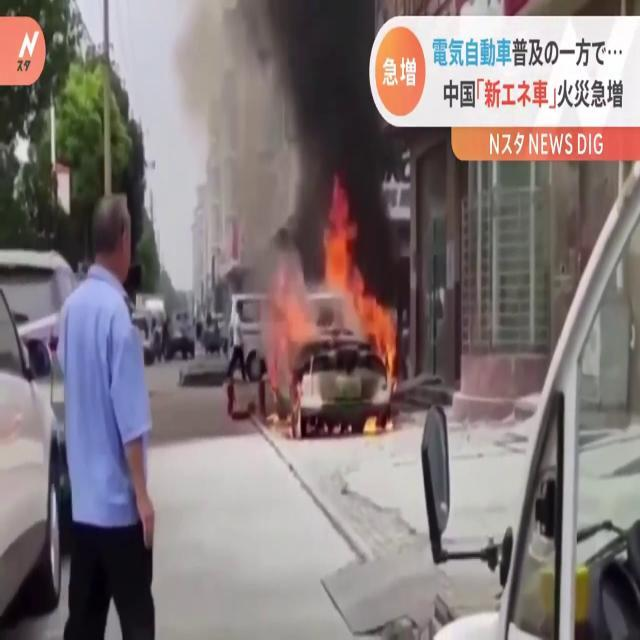Fire: (316, 186, 402, 394), (260, 266, 312, 428)
Smoke: (176, 1, 427, 289)
